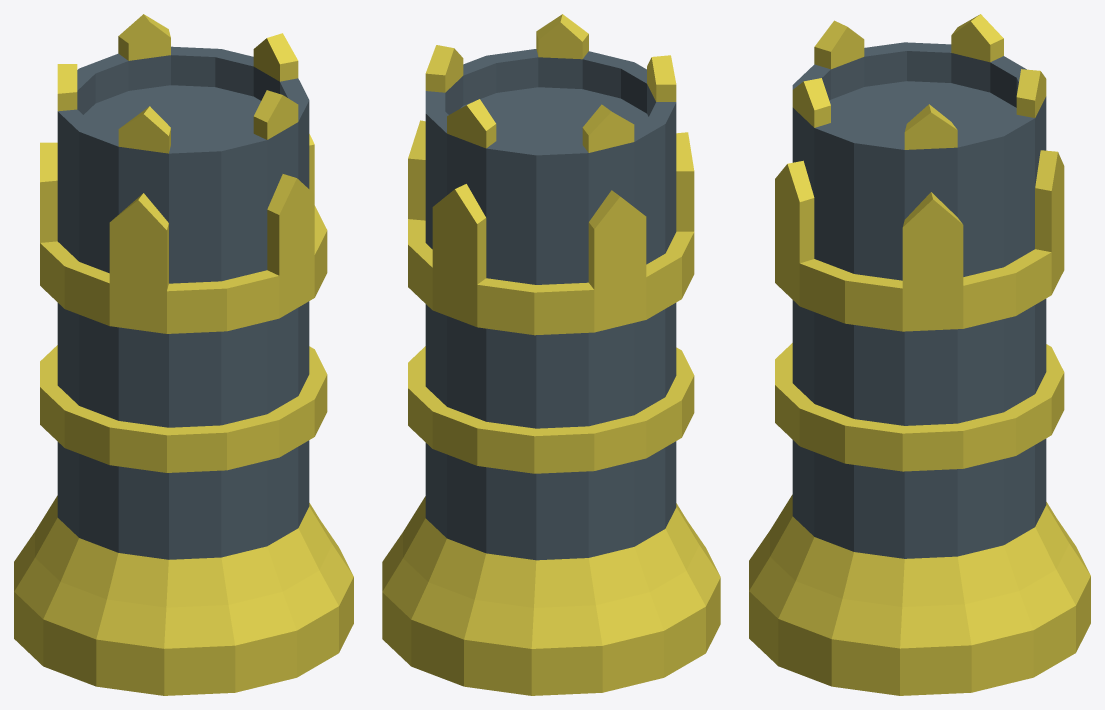
Rendered from crystaltower_new.fbx.
3 renders of one model, left to right at view 1: azimuth 30°, elevation 25°; view 2: azimuth 150°, elevation 25°; view 3: azimuth 270°, elevation 25°, orthographic.
Parts seen in each view (by area): view 1: crystaltower; view 2: crystaltower; view 3: crystaltower.
Boxes of the visible parts, x1=… form: crystaltower: x1=14, y1=14, x2=353, y2=695; crystaltower: x1=382, y1=14, x2=720, y2=695; crystaltower: x1=749, y1=14, x2=1090, y2=695.
Bounding box in the file's own units: 2.9 × 2.88 × 5.25.
